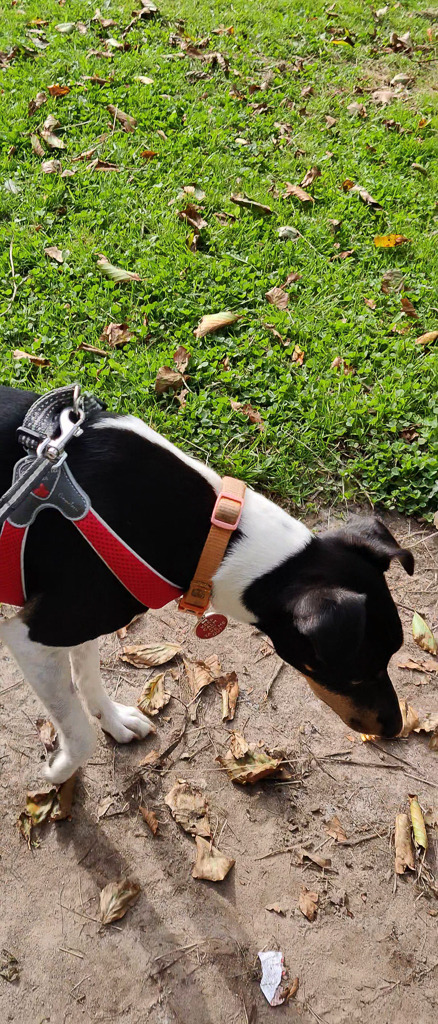Dog: (0, 367, 430, 803)
